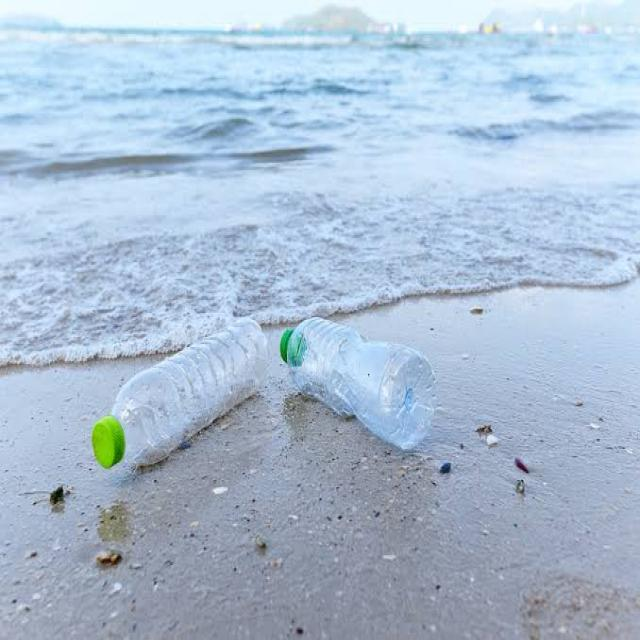plastic: (267, 300, 474, 515), (52, 316, 284, 484)
